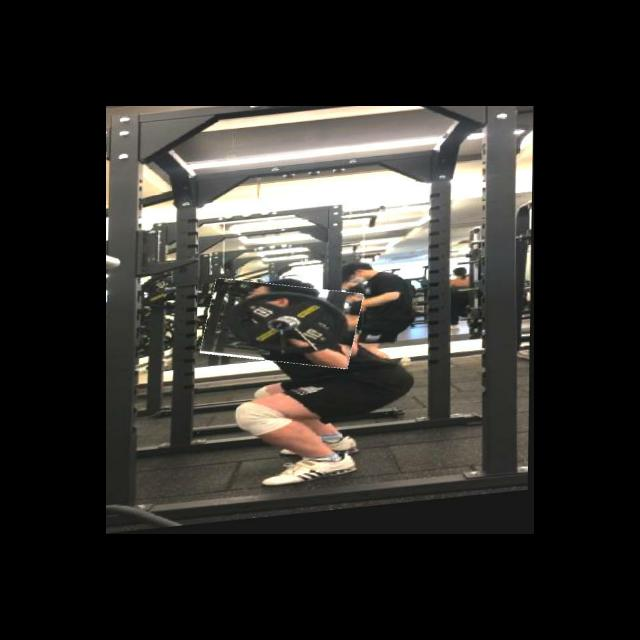barbell: (204, 276, 362, 379)
